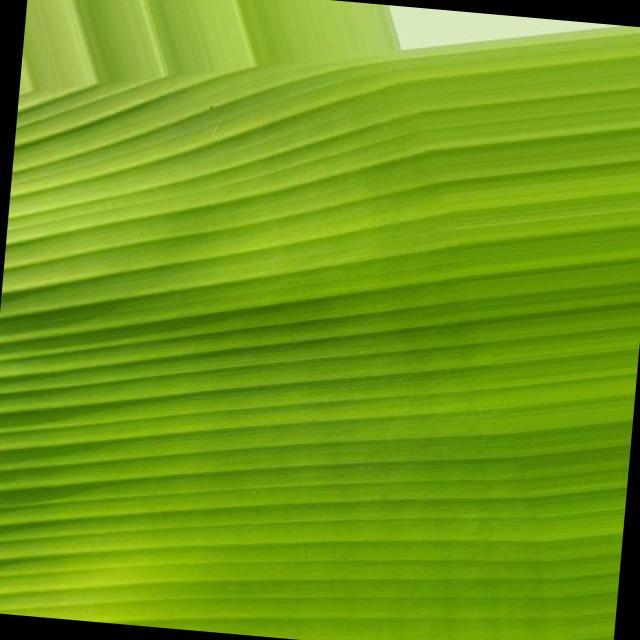Banana_Healthy: (132, 174, 556, 583)
